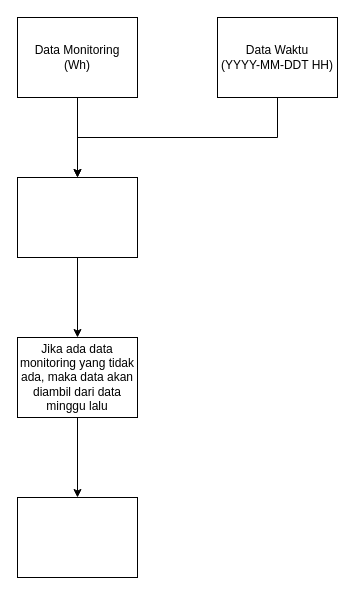
The diagram is 355 pixels wide and 595 high, and some of its shapes have lost their labels. The shapes that lost their labels are listed below. From the top down, each one's centre as x and y in pixels, then its label:
At pixel 77 217: "Gabungkan data monitoring dan waktu".
At pixel 77 537: "Simpan data lengkap di database".
